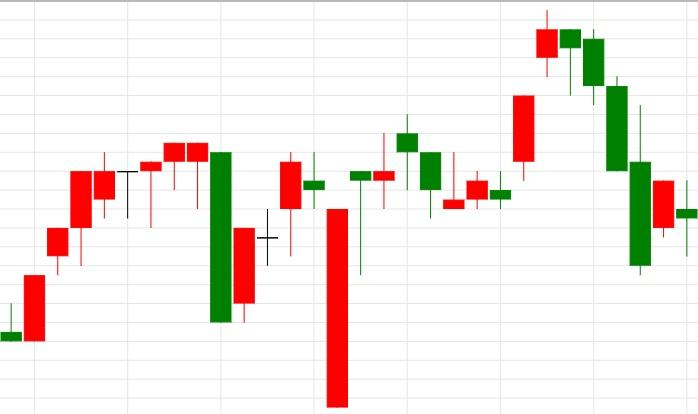hanging_man_fall: (24, 143, 208, 342), (443, 9, 581, 209)
